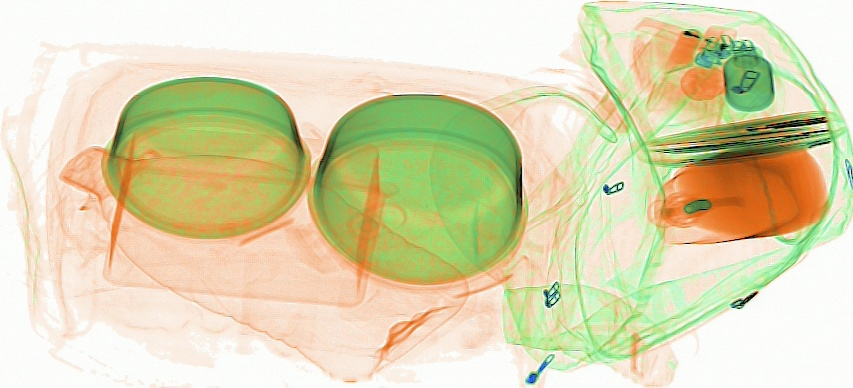lighter: (633, 5, 739, 58)
